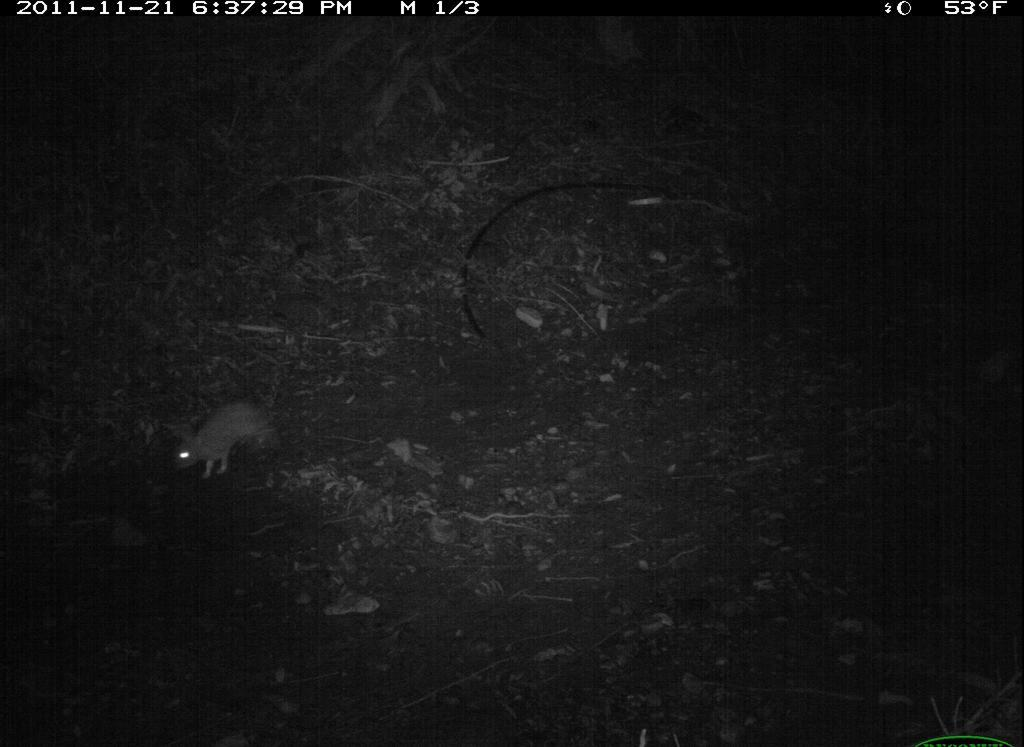rabbit: (159, 402, 282, 486)
